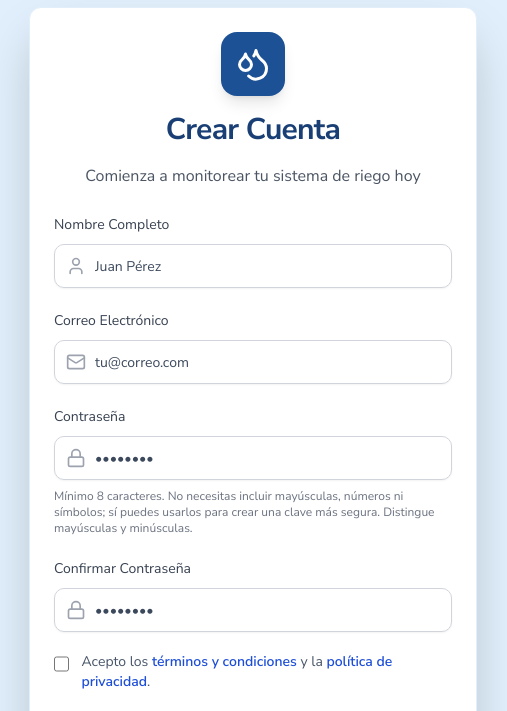
Test: Neptuno app behavior › creates the account and shows the email verification notice
Type "Test User" into the field labelled "Nombre Completo".
click(253, 266); type("Test User")  # box [54,244,452,288]
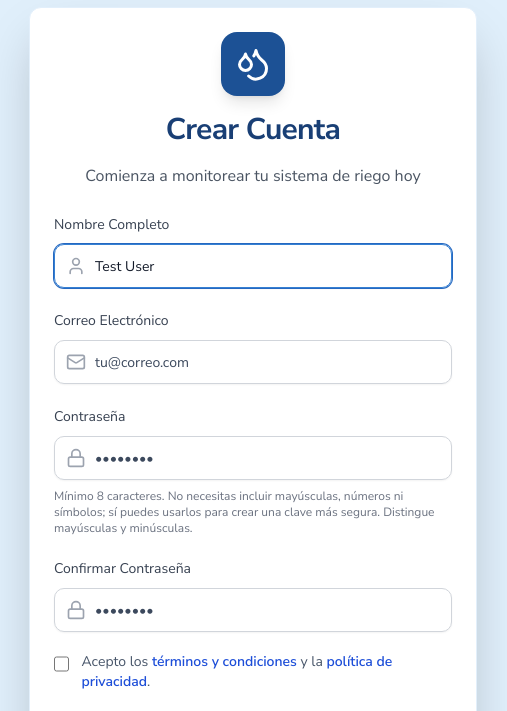
Type "test@example.com" into the field labelled "Correo Electrónico".
click(253, 362); type("test@example.com")  # box [54,340,452,384]
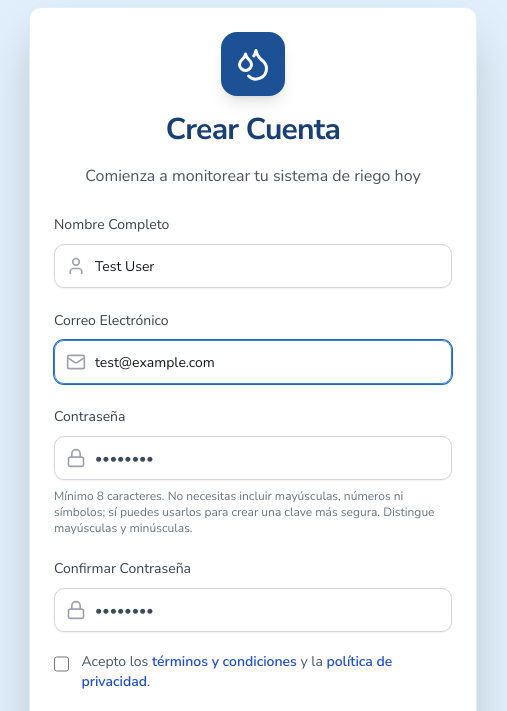
Type "12345678" into the password field labelled "Contraseña".
click(253, 458); type("12345678")  # box [54,436,452,480]
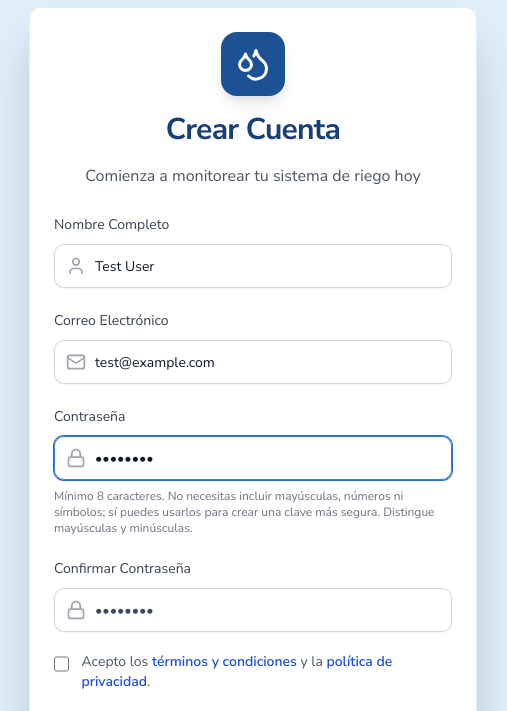
Type "12345678" into the password field labelled "Confirmar Contraseña".
click(253, 610); type("12345678")  # box [54,588,452,632]
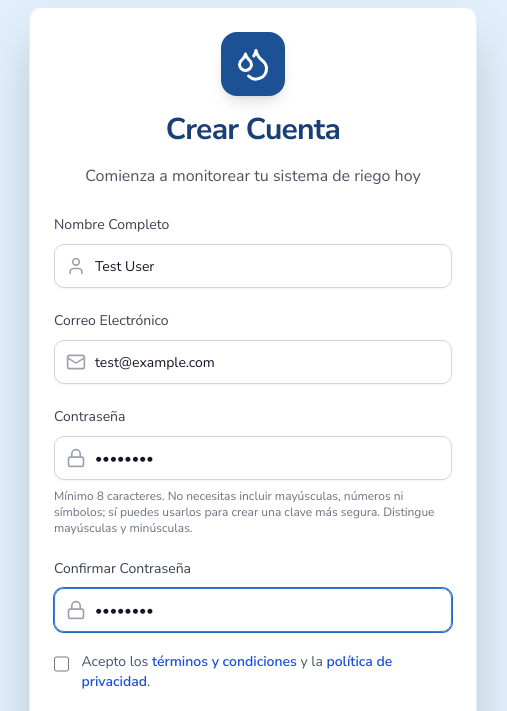
Click the checkbox labelled "Acepto".
click(62, 664)  # box [54,656,70,672]
(page scrolled)
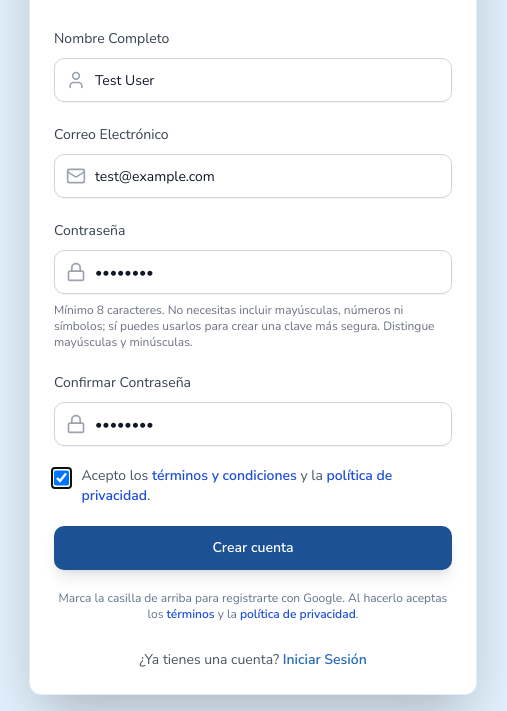
Click the button "Crear cuenta".
click(253, 548)  # box [54,526,452,570]
(page scrolled)
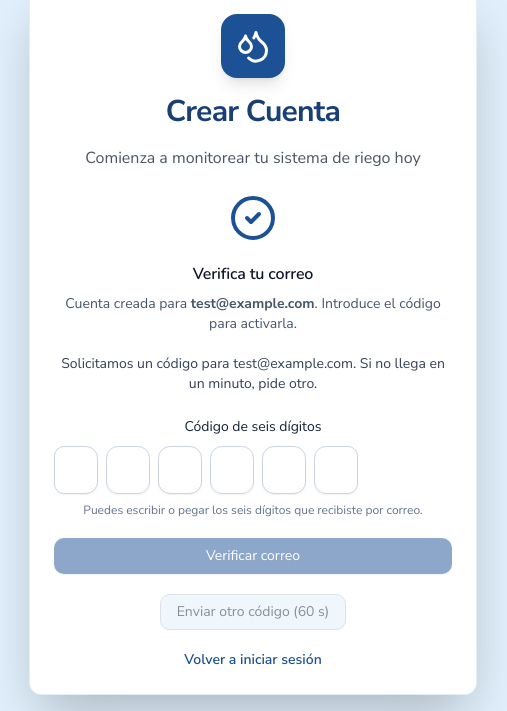
expect the heading "Verifica tu correo" is shown: met, box [193,263,313,285]
expect the text "test@example.com" is shown: met, box [191,294,315,313]
